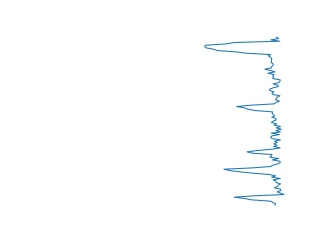distalBar: (199, 33, 286, 87)
interdistributaryEstuary: (233, 86, 286, 140)
underwaterNaturalLevee: (220, 140, 289, 208)
